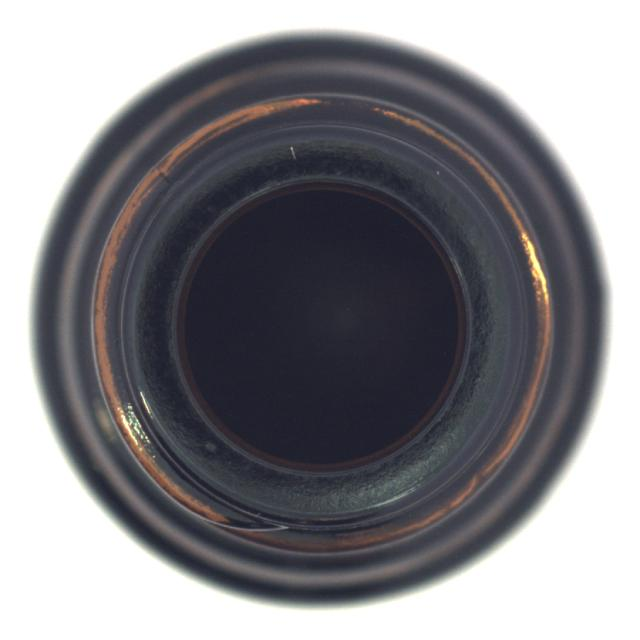bottle-good: (28, 30, 598, 605)
